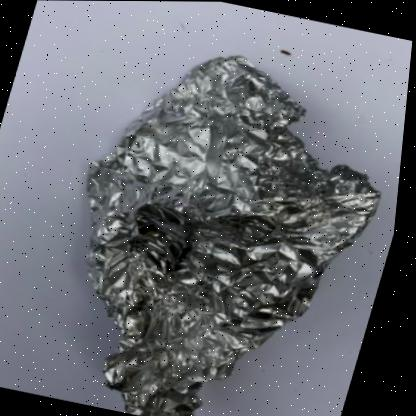Metal: (89, 54, 384, 416)
